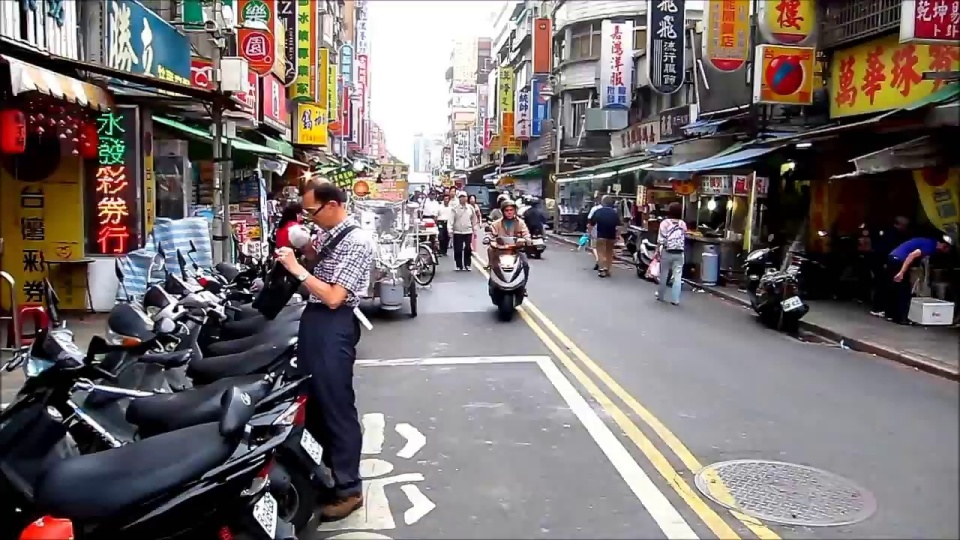person_head: (300, 176, 350, 228), (274, 199, 303, 228), (933, 234, 952, 255), (499, 200, 518, 219), (666, 202, 683, 219), (456, 190, 468, 206), (496, 195, 509, 208), (601, 195, 614, 208), (599, 192, 612, 204), (530, 197, 541, 208), (427, 190, 437, 200), (448, 187, 456, 199), (468, 195, 477, 205), (441, 195, 450, 204), (524, 196, 532, 206), (414, 189, 423, 197)
person_vbox: (277, 169, 376, 522), (867, 232, 954, 327), (486, 200, 531, 293), (651, 200, 687, 305), (588, 192, 622, 279), (450, 188, 476, 273), (585, 190, 609, 270), (275, 201, 311, 251), (520, 195, 547, 237), (434, 193, 451, 258), (465, 193, 482, 256), (420, 189, 440, 241), (488, 193, 513, 221), (516, 196, 534, 219)
